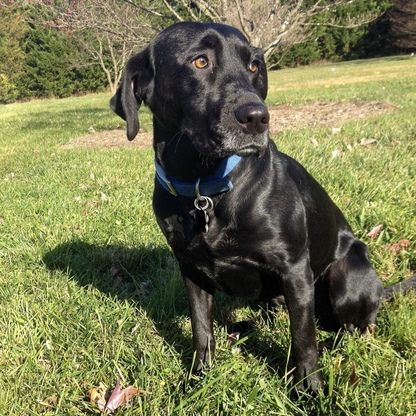labrado: (107, 18, 393, 416)
